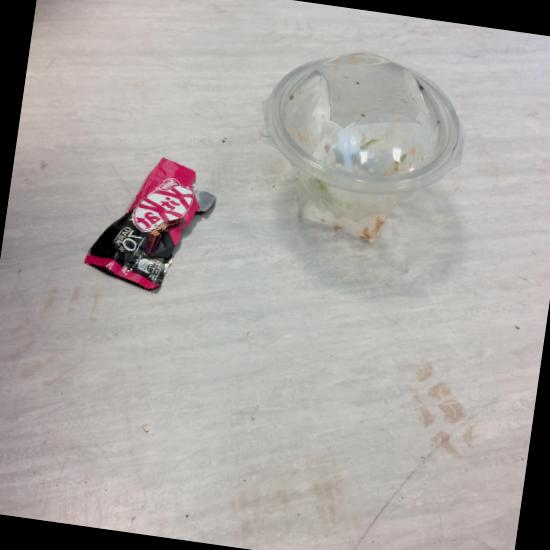Clear plastic bottle: (430, 85, 475, 127), (452, 103, 497, 141)
Disposable plastic cup: (360, 194, 379, 218)
Other plastic: (440, 151, 451, 167)
Plastic film: (56, 14, 94, 60), (179, 115, 231, 146), (481, 96, 504, 117), (512, 57, 526, 73)
Single-use carrier bag: (175, 57, 226, 86)
Unlabeled litter: (349, 83, 373, 121), (522, 70, 550, 97), (282, 164, 297, 189), (337, 133, 354, 150)
